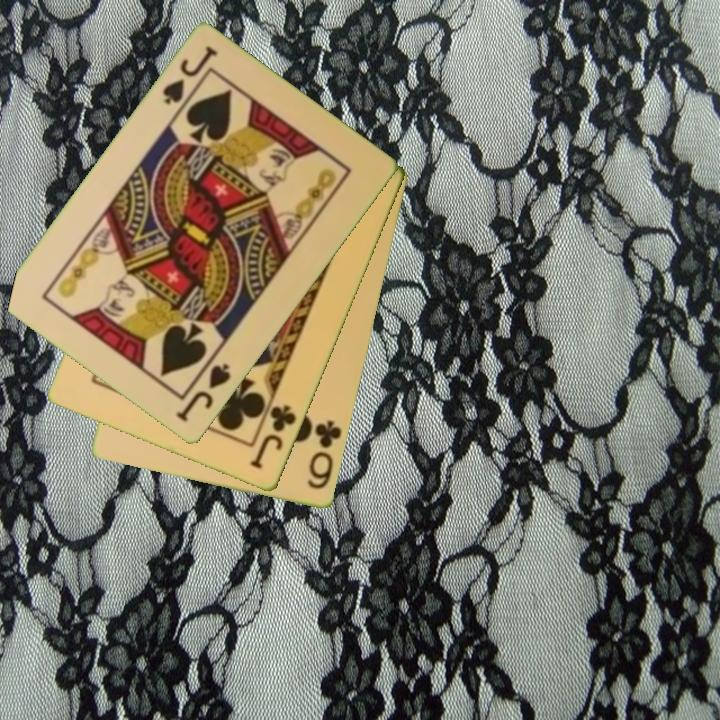6c: (304, 417, 345, 493)
Jc: (247, 401, 300, 473)
Js: (172, 360, 234, 426), (159, 43, 221, 108)
